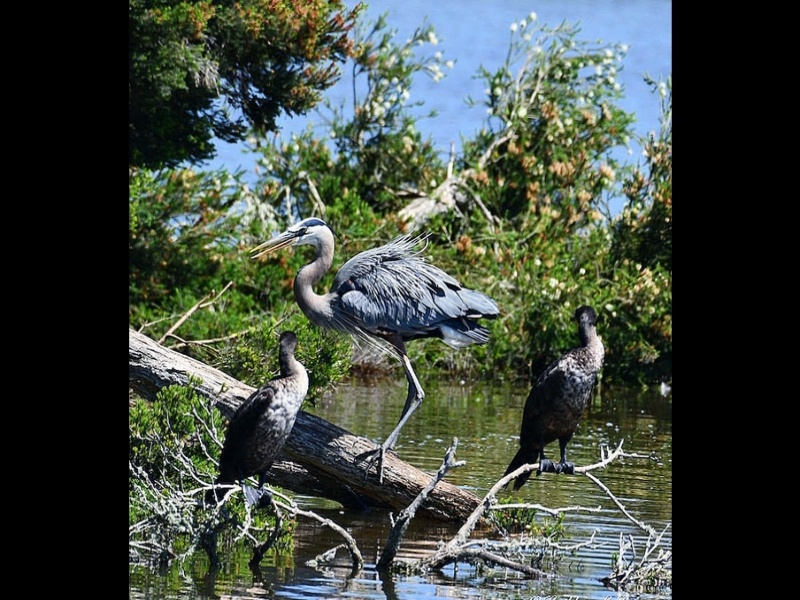heron: (247, 214, 495, 472)
